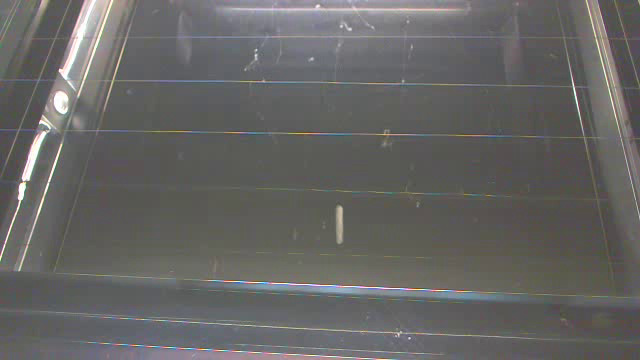alpha: (333, 197, 351, 247), (289, 224, 301, 244)
